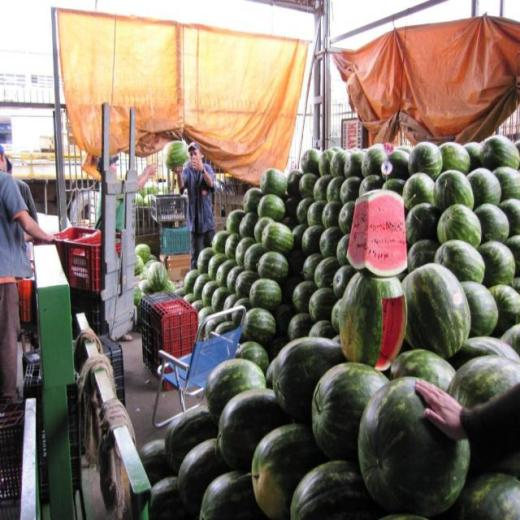Cherry: (135, 142, 520, 520), (132, 179, 172, 203)
